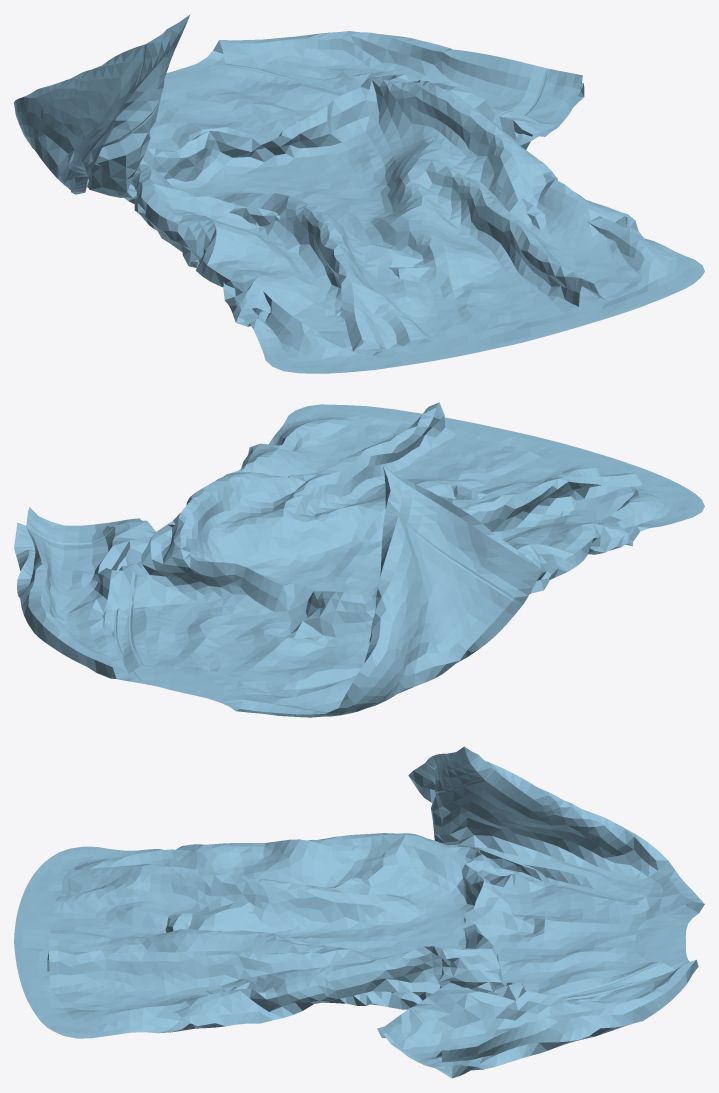
The model's file is frame_13.glb.
3 renders of one model, top to bottom at view 1: azimuth 30°, elevation 25°; view 2: azimuth 150°, elevation 25°; view 3: azimuth 270°, elevation 25°, orthographic. The views are drawn at different scales.
Visible parts, largest first — view 1: frame_13.obj; view 2: frame_13.obj; view 3: frame_13.obj.
Boxes of the visible parts, x1,y1,x2,y2 form: frame_13.obj: (14, 14, 704, 373); frame_13.obj: (14, 402, 704, 717); frame_13.obj: (14, 746, 704, 1078).
Bounding box in the file's own units: 1.49 × 0.4795 × 1.83.
